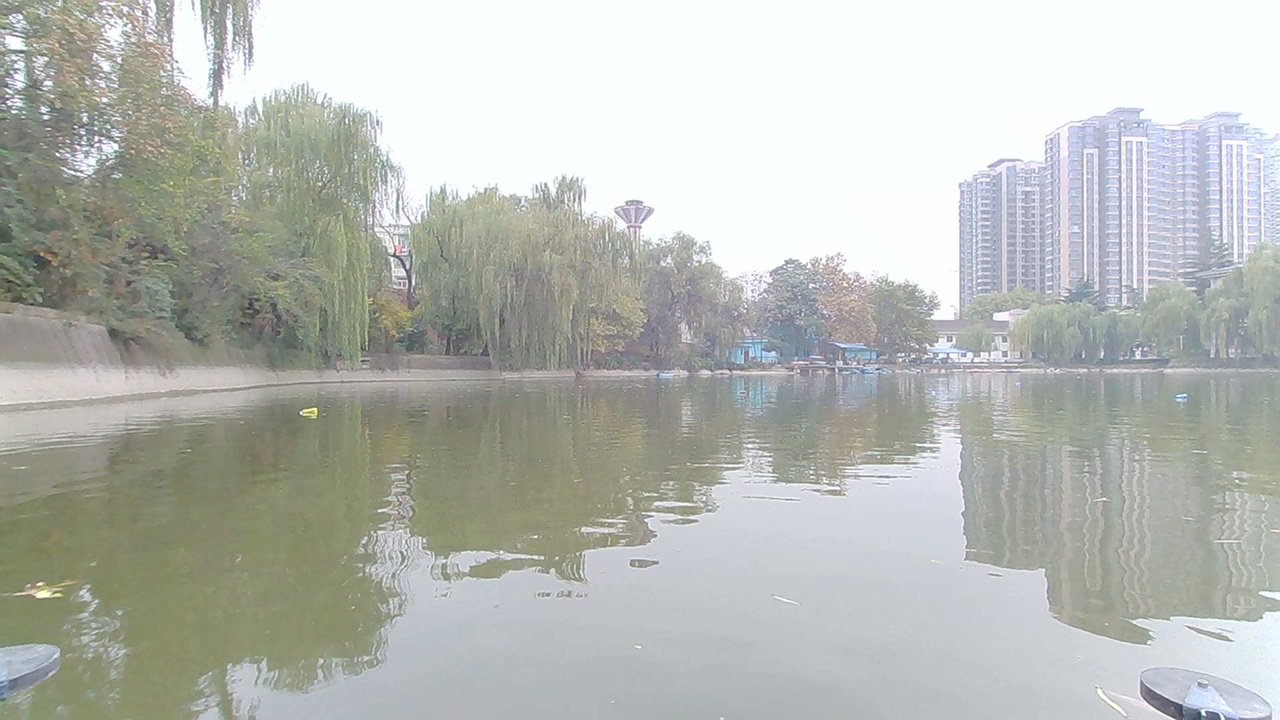bottle: (294, 399, 328, 422), (1172, 386, 1203, 409), (729, 388, 758, 403)
